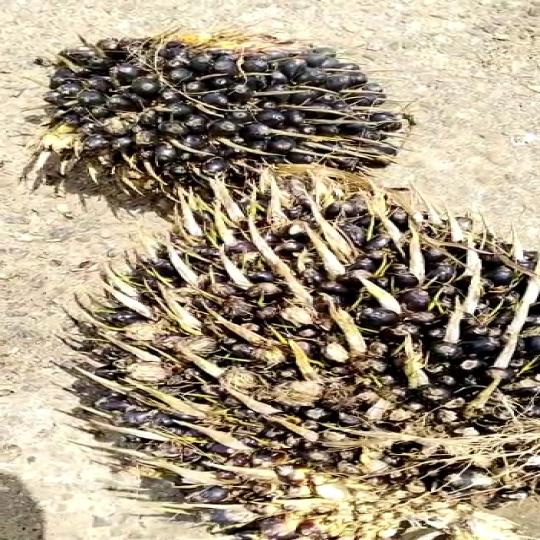mentah: (75, 175, 540, 540), (7, 14, 496, 206)
